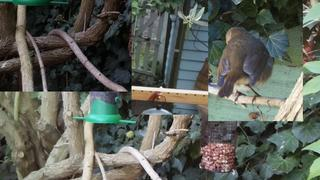robin: (216, 27, 276, 106)
